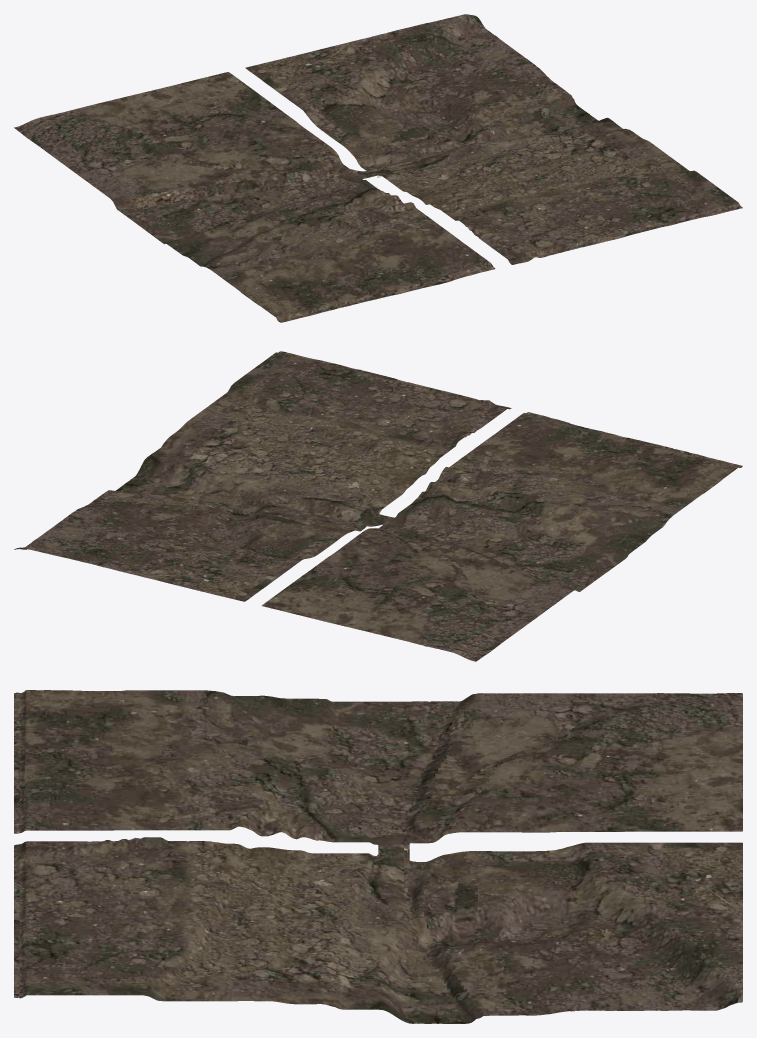
The model's file is Tierra_6.glb.
3 views of the same model, one above another, from view 1: azimuth 30°, elevation 25°; view 2: azimuth 150°, elevation 25°; view 3: azimuth 270°, elevation 25° (orthographic). The views are drawn at different scales.
Parts seen in each view (by area): view 1: Tierra; view 2: Tierra; view 3: Tierra.
Part boxes in pixels (x1=…): Tierra: x1=14, y1=14, x2=742, y2=322; Tierra: x1=14, y1=351, x2=742, y2=661; Tierra: x1=14, y1=690, x2=742, y2=1023.
Bounding box in the file's own units: 451 × 23.44 × 451.
1 material, 1 textured.
